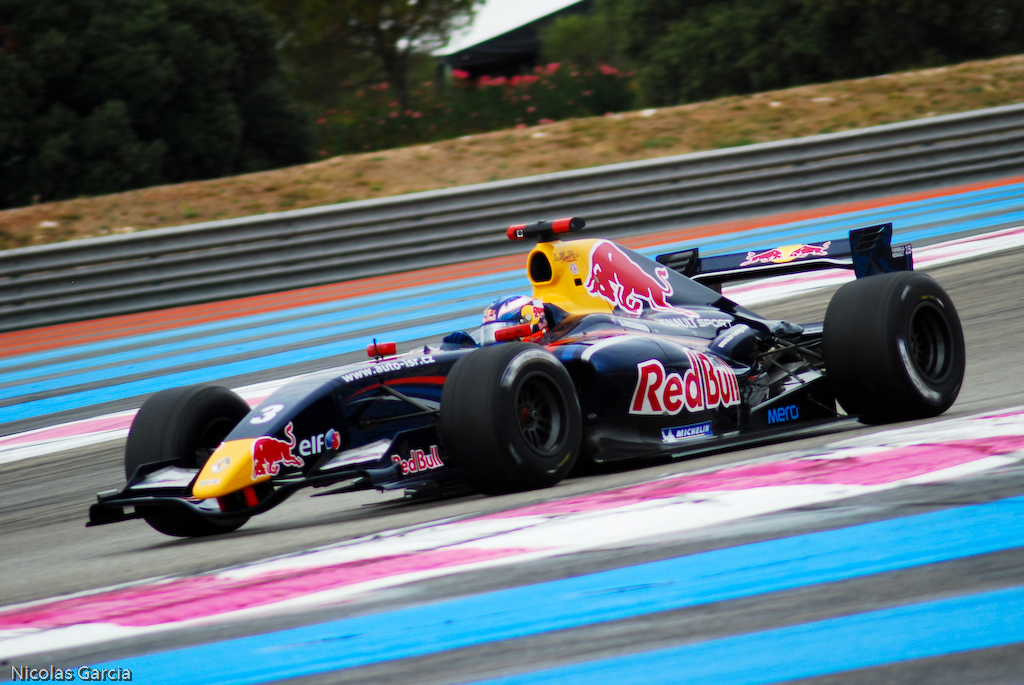F1 Car: (83, 214, 975, 544)
